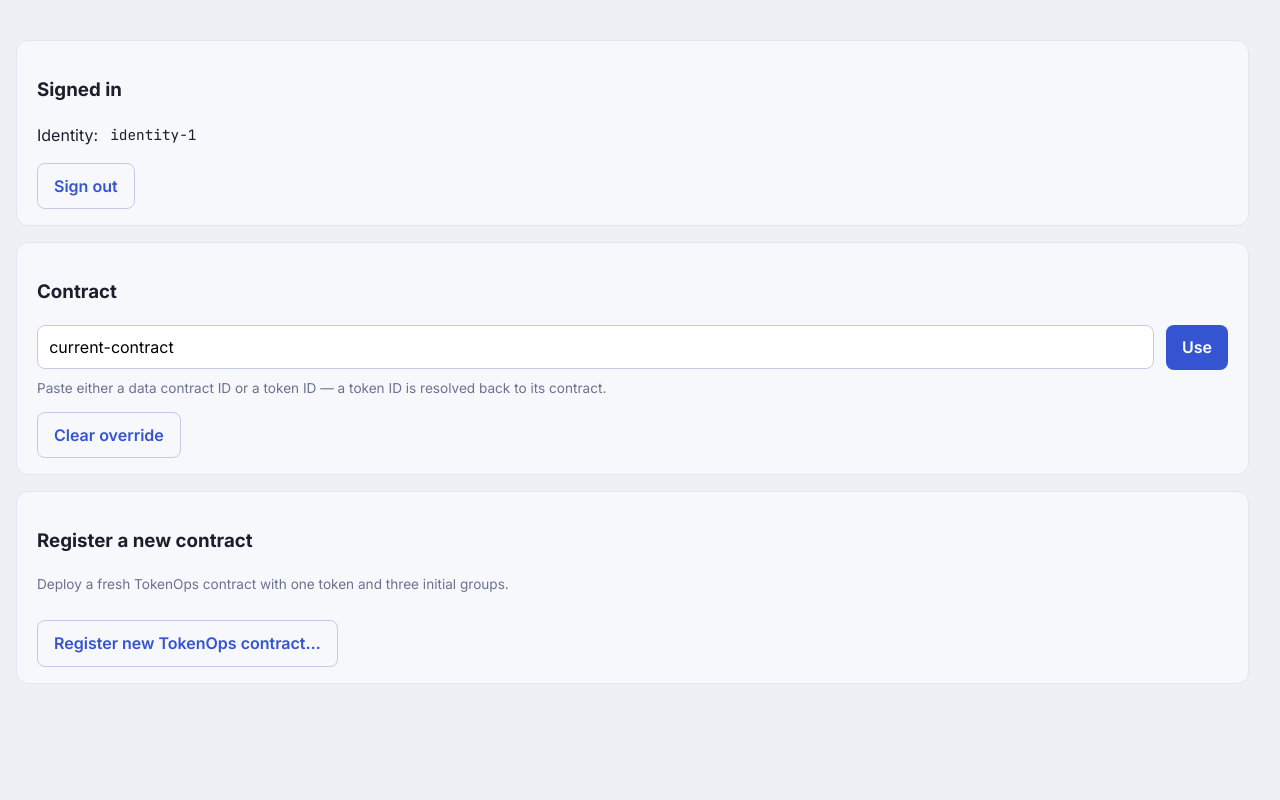
SettingsView › resolves a trimmed token reference and selects its contract
The width and height of the screenshot is (1280, 800).
Replace the text in the field with placeholder "Contract or token ID" with "  token-1  ": (596, 347) [37,325,1154,369]
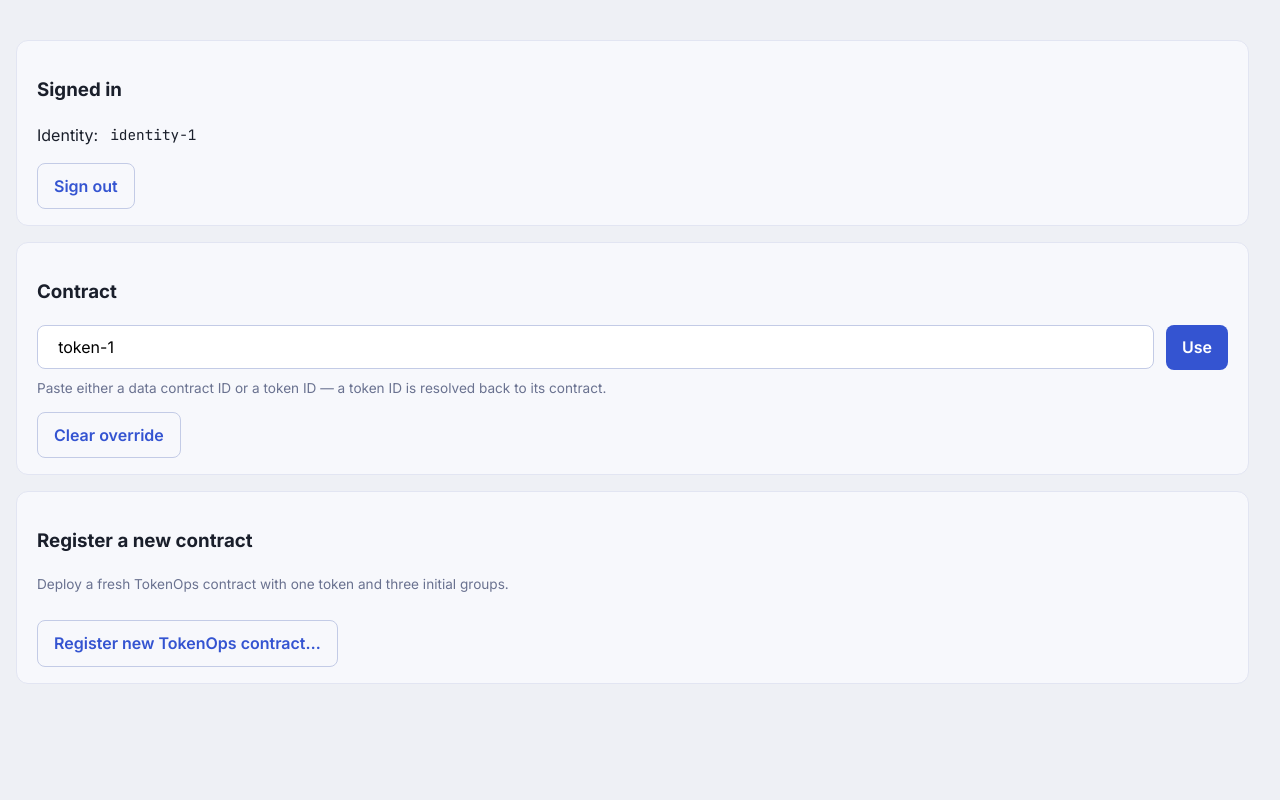
Click the button "Use": click(1197, 347) [1166,325,1228,370]
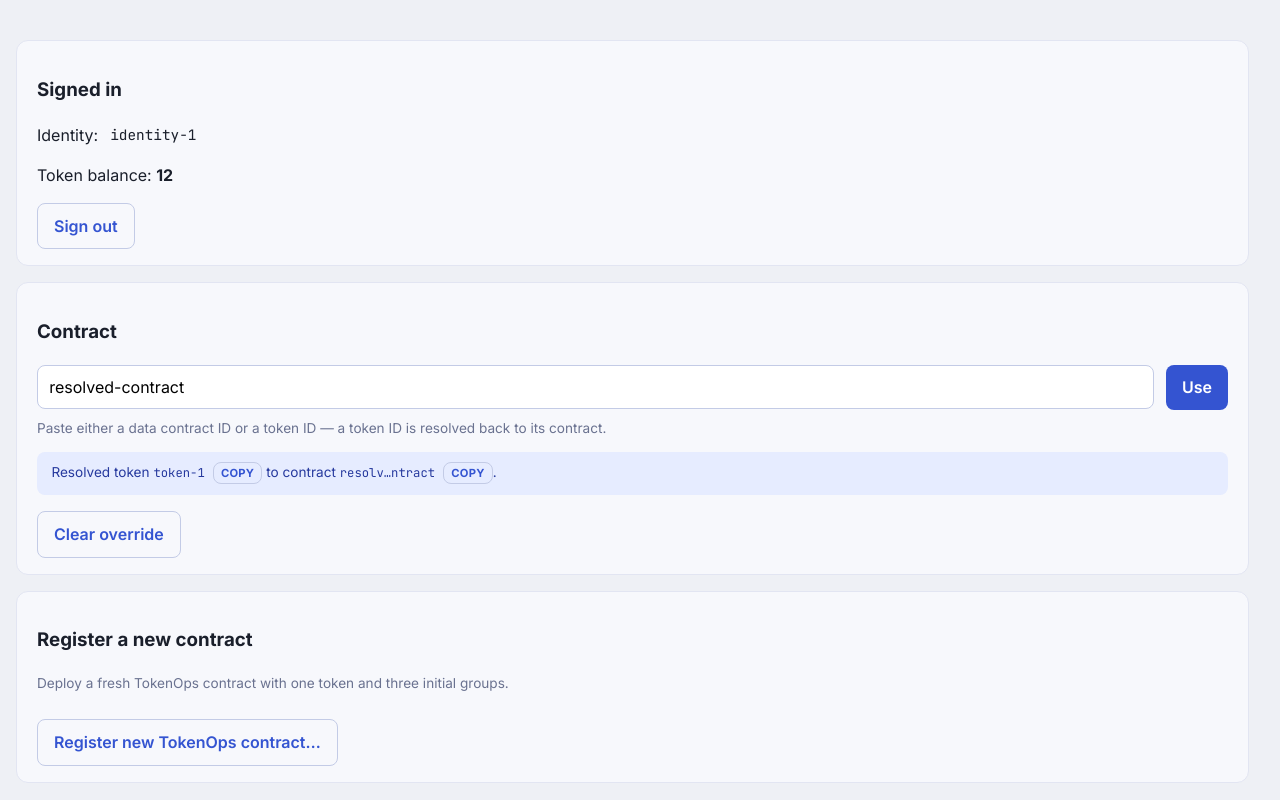
Expected: the field with placeholder "Contract or token ID" holds "resolved-contract", [37,365,1154,409]
Expected: the text "Resolved token token-1 Copy to contract resolv…ntract Copy ." is shown, [37,452,1228,495]
